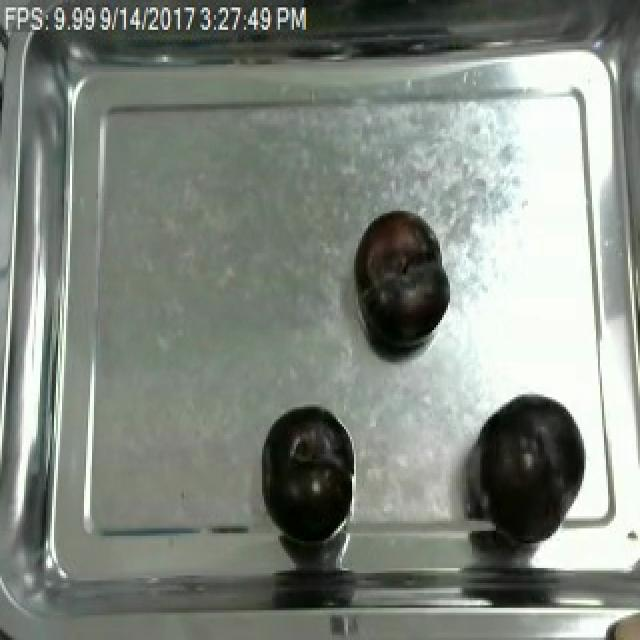Fruit: (470, 389, 588, 546), (350, 206, 454, 355), (258, 399, 356, 546), (596, 603, 640, 640)
